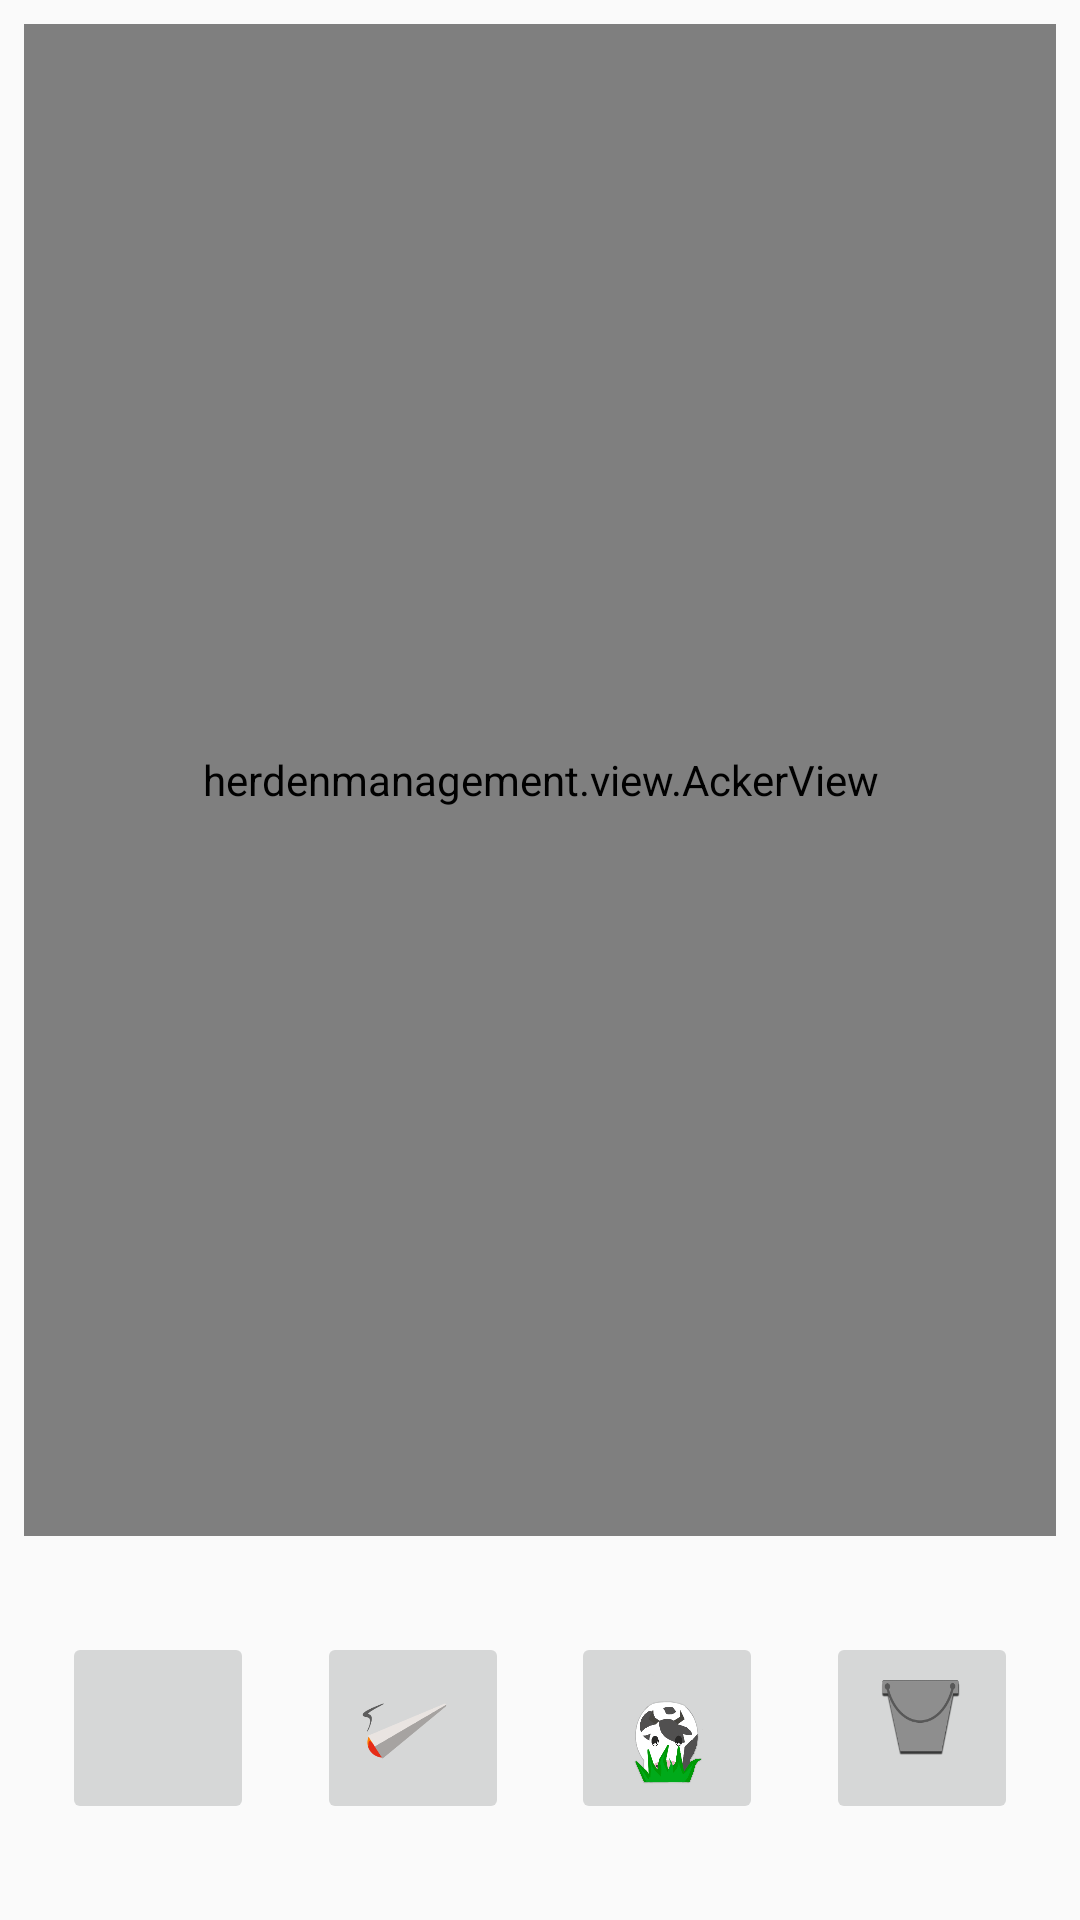

Icon bounding boxes for this 1080px×1920px phone screenshot, format (x1, y1, x2, y2):
eimer: (838, 1650, 1006, 1806)
joint: (329, 1650, 497, 1806)
kuh gras: (583, 1650, 751, 1806)
